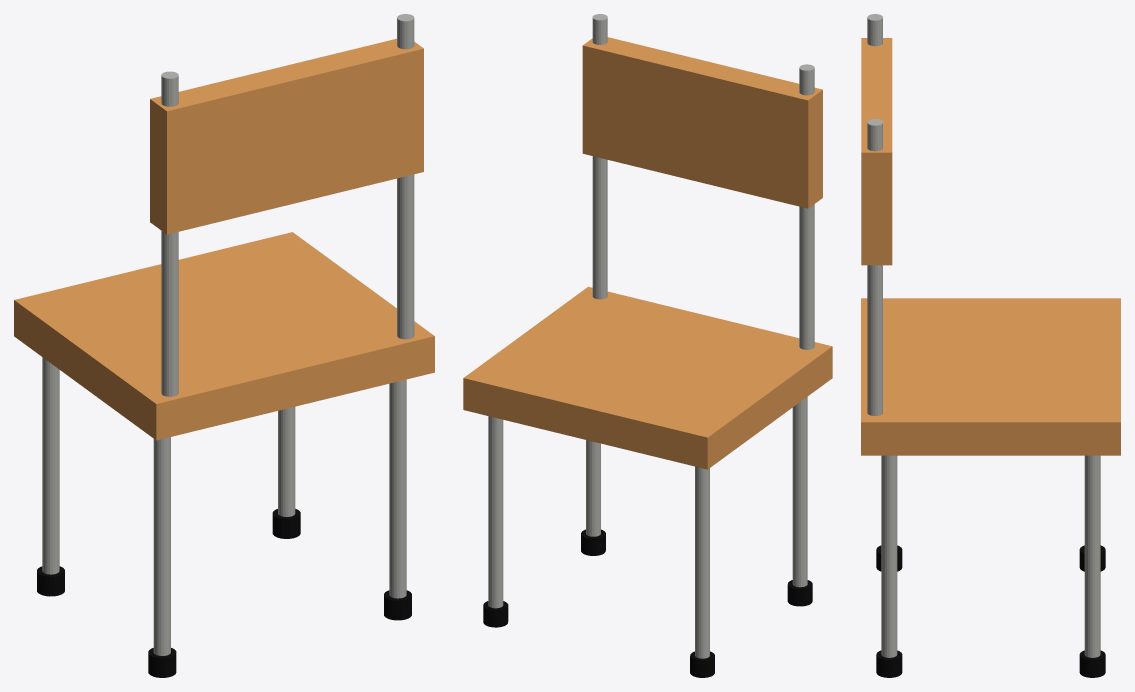
File: school_chair_FIXED_Unity.obj
3 renders of one model, left to right at view 1: azimuth 30°, elevation 25°; view 2: azimuth 150°, elevation 25°; view 3: azimuth 270°, elevation 25°, orthographic. The views are drawn at different scales.
Visible parts, largest first — view 1: Seat_thick_wood_board, Backrest_thick_wood_board, Metal_leg_4, Metal_leg_3, Metal_leg_1, Back_left_post, Back_right_post, Metal_leg_2, Black_rubber_foot_3, Black_rubber_foot_2, Black_rubber_foot_1, Black_rubber_foot_4; view 2: Seat_thick_wood_board, Backrest_thick_wood_board, Metal_leg_2, Metal_leg_3, Metal_leg_1, Back_left_post, Back_right_post, Metal_leg_4, Black_rubber_foot_3, Black_rubber_foot_2; view 3: Seat_thick_wood_board, Backrest_thick_wood_board, Metal_leg_2, Metal_leg_4, Back_right_post, Black_rubber_foot_2, Black_rubber_foot_4, Back_left_post.
Boxes of the visible parts, x1=… form: Seat_thick_wood_board: x1=14, y1=232, x2=434, y2=440; Backrest_thick_wood_board: x1=150, y1=38, x2=423, y2=234; Metal_leg_4: x1=389, y1=379, x2=406, y2=598; Metal_leg_3: x1=153, y1=437, x2=170, y2=655; Metal_leg_1: x1=42, y1=357, x2=59, y2=574; Back_left_post: x1=161, y1=71, x2=178, y2=396; Back_right_post: x1=397, y1=14, x2=414, y2=339; Metal_leg_2: x1=278, y1=407, x2=295, y2=516; Black_rubber_foot_3: x1=148, y1=648, x2=176, y2=677; Black_rubber_foot_2: x1=272, y1=509, x2=300, y2=538; Black_rubber_foot_1: x1=37, y1=566, x2=64, y2=596; Black_rubber_foot_4: x1=384, y1=590, x2=411, y2=620; Seat_thick_wood_board: x1=463, y1=286, x2=832, y2=469; Backrest_thick_wood_board: x1=582, y1=37, x2=822, y2=208; Metal_leg_2: x1=488, y1=416, x2=503, y2=608; Metal_leg_3: x1=792, y1=397, x2=807, y2=587; Metal_leg_1: x1=695, y1=466, x2=709, y2=658; Back_left_post: x1=799, y1=64, x2=814, y2=349; Back_right_post: x1=592, y1=14, x2=607, y2=299; Metal_leg_4: x1=586, y1=440, x2=600, y2=536; Black_rubber_foot_3: x1=787, y1=580, x2=812, y2=606; Black_rubber_foot_2: x1=483, y1=601, x2=508, y2=627; Seat_thick_wood_board: x1=861, y1=298, x2=1120, y2=455; Backrest_thick_wood_board: x1=861, y1=38, x2=892, y2=265; Metal_leg_2: x1=1084, y1=455, x2=1100, y2=657; Metal_leg_4: x1=881, y1=455, x2=897, y2=657; Back_right_post: x1=867, y1=119, x2=882, y2=415; Black_rubber_foot_2: x1=1079, y1=650, x2=1105, y2=677; Black_rubber_foot_4: x1=876, y1=650, x2=902, y2=677; Back_left_post: x1=867, y1=14, x2=882, y2=46.
Bounding box in the file's own units: 0.52 × 1.08 × 0.46.
